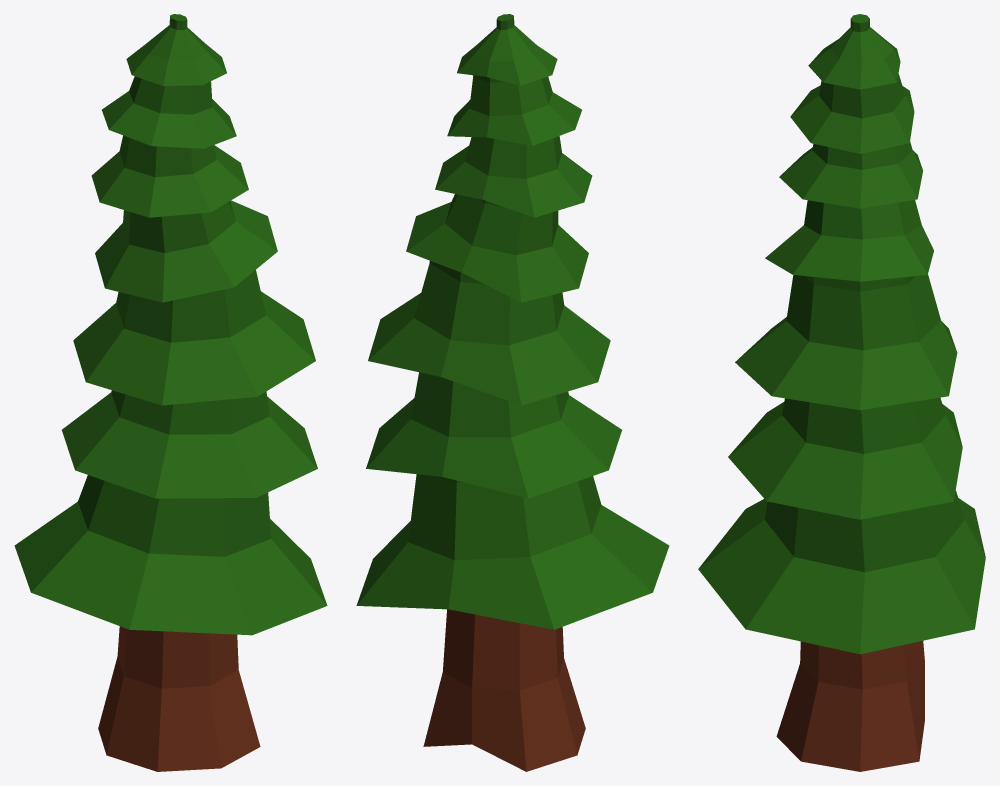
Rendered from Pino.fbx.
3 renders of one model, left to right at view 1: azimuth 30°, elevation 25°; view 2: azimuth 150°, elevation 25°; view 3: azimuth 270°, elevation 25°, orthographic.
Visible parts, largest first — view 1: Pino; view 2: Pino; view 3: Pino.
Part boxes in pixels (box(x1,y1,x2,y2)): Pino: box(14, 14, 327, 771); Pino: box(356, 14, 669, 771); Pino: box(698, 14, 985, 771).
Size of the model in its own units: 680 by 1675 by 608.
